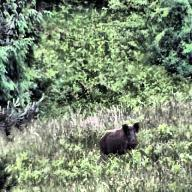boar: (85, 115, 141, 163)
